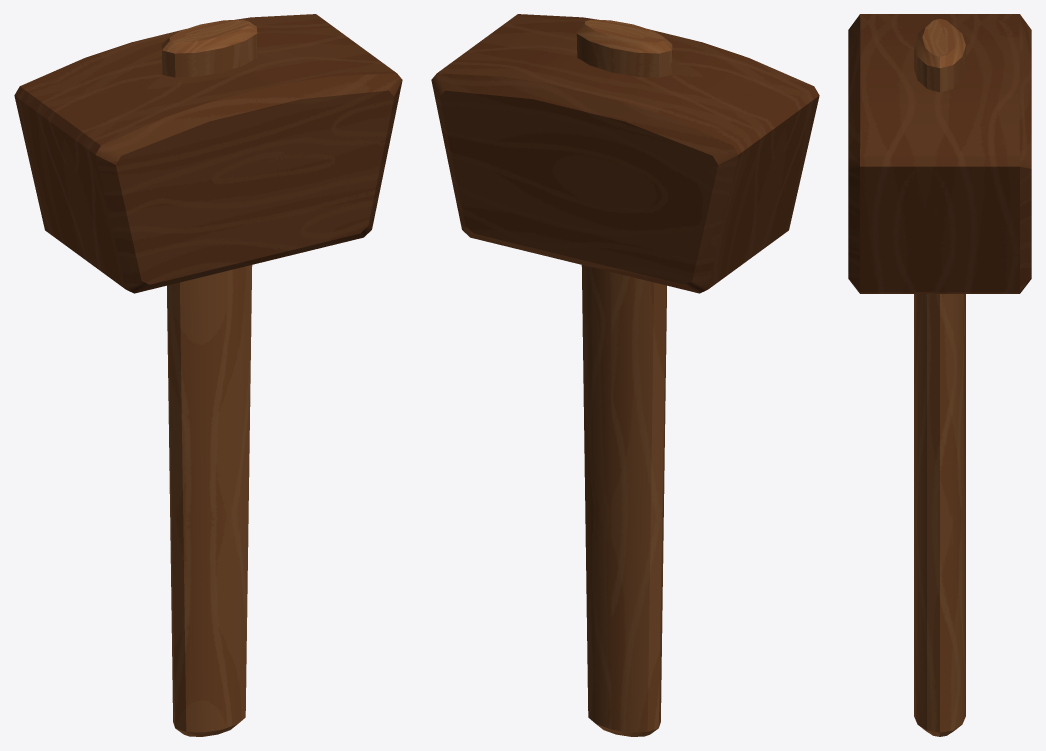
Rendered from mallet_3.fbx.
The picture shows the model from 3 angles, left to right: view 1: azimuth 30°, elevation 25°; view 2: azimuth 150°, elevation 25°; view 3: azimuth 270°, elevation 25°; orthographic projection.
Visible parts, largest first — view 1: mallet_3; view 2: mallet_3; view 3: mallet_3.
Boxes of the visible parts, <box> form: mallet_3: <box>14,14,402,736</box>; mallet_3: <box>431,14,819,736</box>; mallet_3: <box>848,14,1031,736</box>.
Size of the model in its own units: 8.95 by 19.42 by 4.7.
